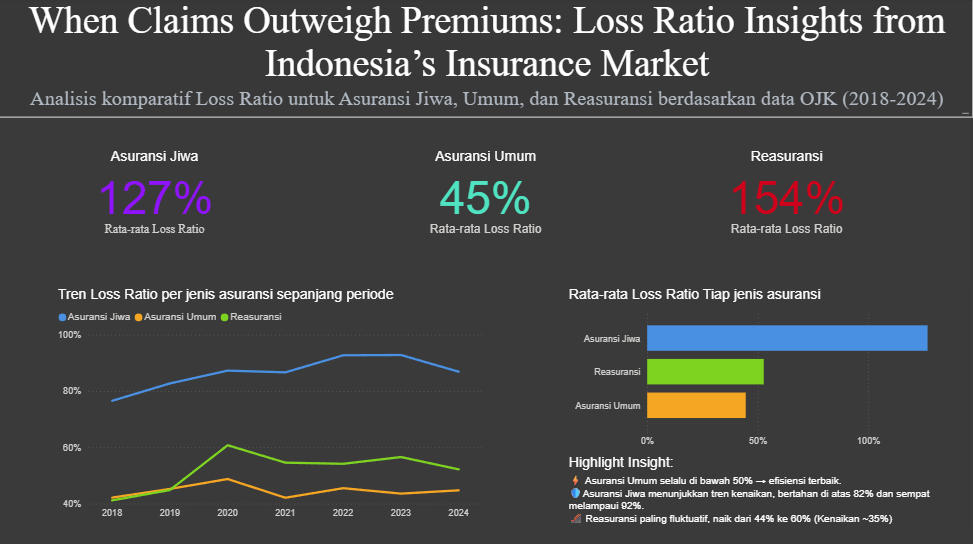

What the dashboard file says about the page in this screenshot:
{"tool":"powerbi","page":{"name":"Page 1","canvas":[1280,720],"ordinal":0},"visuals":[{"type":"lineChart","title":"Tren Loss Ratio per jenis asuransi sepanjang periode","fields":{"Category":["asuransi_loss_ratio.Tahun"],"Y":["Sum(asuransi_loss_ratio.Loss Ratio)"],"Series":["asuransi_loss_ratio.Jenis Asuransi"]},"box":[72.9,378.6,567.1,314.3],"z":0},{"type":"textbox","title":"When Claims Outweigh Premiums: Loss Ratio Insights from Indonesia’s Insurance Market","box":[0,0,1280,157.1],"z":1000},{"type":"card","title":"Asuransi Jiwa","fields":{"Values":["asuransi_loss_ratio.Total Loss Ratio Keseluruhan"]},"box":[101.7,196.7,206.7,116.7],"z":2000},{"type":"card","title":"Asuransi Umum","fields":{"Values":["asuransi_loss_ratio.Total Loss Ratio Keseluruhan"]},"box":[536.7,196.7,206.7,116.7],"z":3000},{"type":"card","title":"Reasuransi","fields":{"Values":["asuransi_loss_ratio.Total Loss Ratio Keseluruhan"]},"box":[931.7,196.7,206.7,116.7],"z":4000},{"type":"clusteredBarChart","title":"Rata-rata Loss Ratio Tiap jenis asuransi","fields":{"Category":["asuransi_loss_ratio.Jenis Asuransi"],"Y":["asuransi_loss_ratio.Rata-rata Loss Ratio"]},"box":[744.3,378.6,535.7,220],"z":5000},{"type":"textbox","title":"Highlight Insight:","box":[744.3,598.6,535.7,94.3],"z":6000}]}

Visuals, with their boxes in screenshot pixels (x1, y1, x2, y2), scaled from the page's 1280x720 canvas onto the 973x544 screenshot:
"Tren Loss Ratio per jenis asuransi sepanjang periode" lineChart: 55 286 486 524
"When Claims Outweigh Premiums: Loss Ratio Insights from Indonesia’s Insurance Market" textbox: 0 0 972 119
"Asuransi Jiwa" card: 77 149 234 237
"Asuransi Umum" card: 408 149 565 237
"Reasuransi" card: 708 149 865 237
"Rata-rata Loss Ratio Tiap jenis asuransi" clusteredBarChart: 566 286 972 452
"Highlight Insight:" textbox: 566 452 972 524
